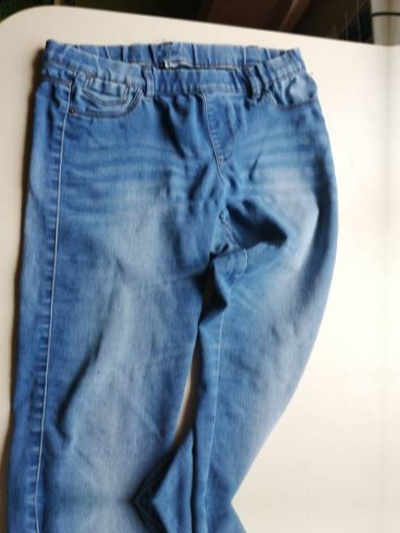Pants: (5, 29, 355, 502), (0, 502, 348, 533)
